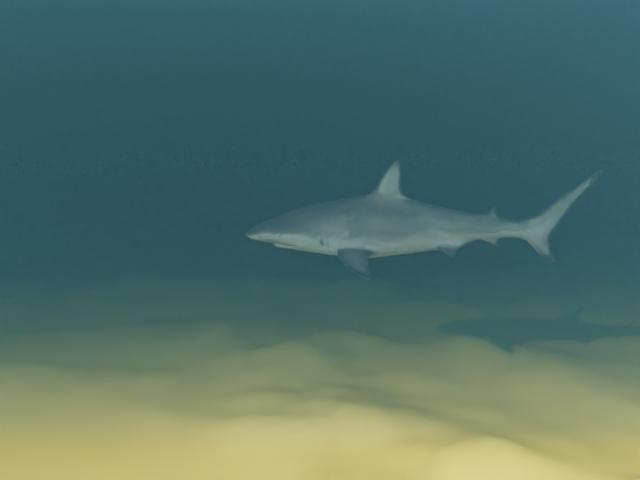Carribean Shark.001: (245, 159, 604, 280)
